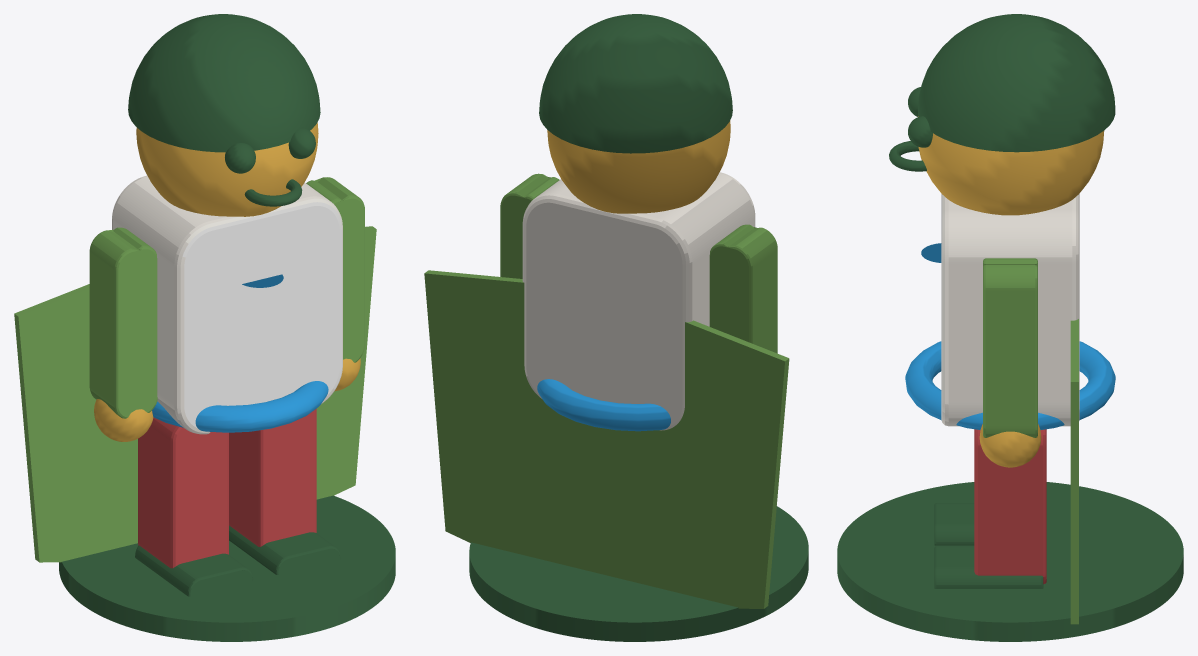
File: 0699_《史记》_黄石老人.glb
3 renders of one model, left to right at view 1: azimuth 30°, elevation 25°; view 2: azimuth 150°, elevation 25°; view 3: azimuth 270°, elevation 25°, orthographic.
Parts seen in each view (by area): view 1: card_0699; view 2: card_0699; view 3: card_0699.
Part boxes in pixels (x1,y1,x2,y2): card_0699: (14,14,395,641); card_0699: (424,14,808,641); card_0699: (837,14,1183,641).
Bounding box in the file's own units: 0.6739 × 1 × 0.5605.
